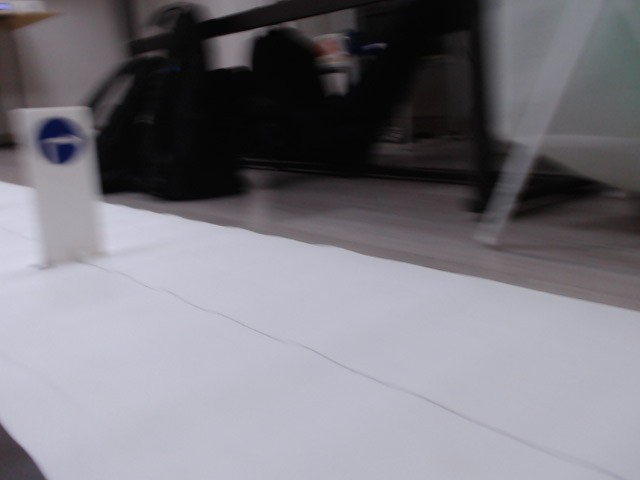Right: (37, 116, 89, 167)
